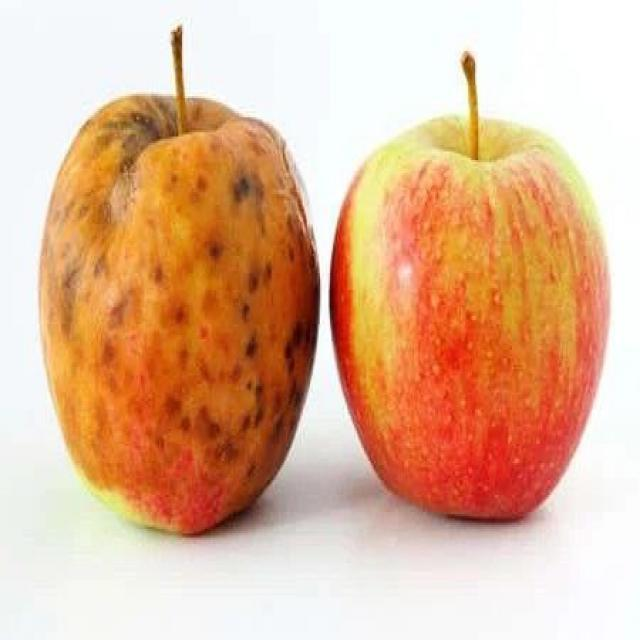Fresh Apple: (346, 117, 612, 523)
Rotten: (53, 105, 295, 513)
